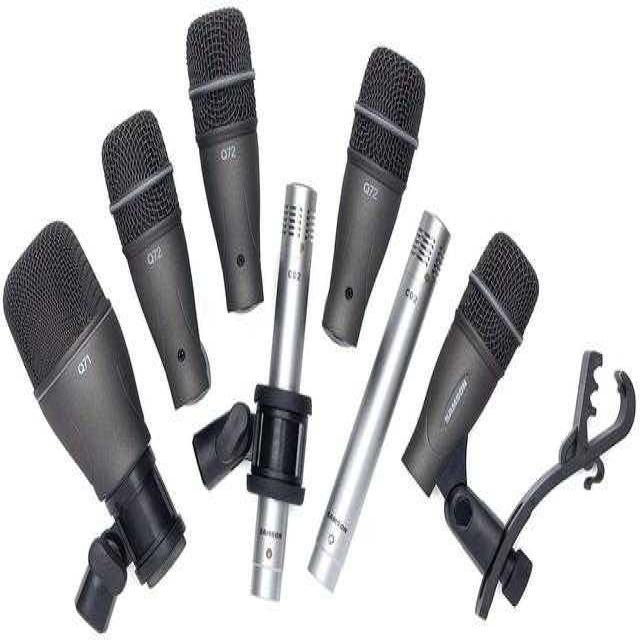microphone: (6, 221, 183, 626), (406, 228, 536, 508), (102, 111, 208, 408), (324, 46, 426, 344), (244, 187, 316, 604), (186, 5, 264, 311)
